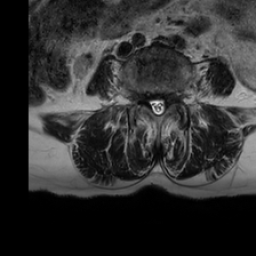CCS_stenosis: (154, 91, 161, 119)
LFS_severe_stenosis: (166, 88, 175, 109)
LLS_stenosis: (161, 92, 167, 117)
RFS_severe_stenosis: (139, 86, 147, 109)
RLS_severe_stenosis: (147, 92, 154, 117)
